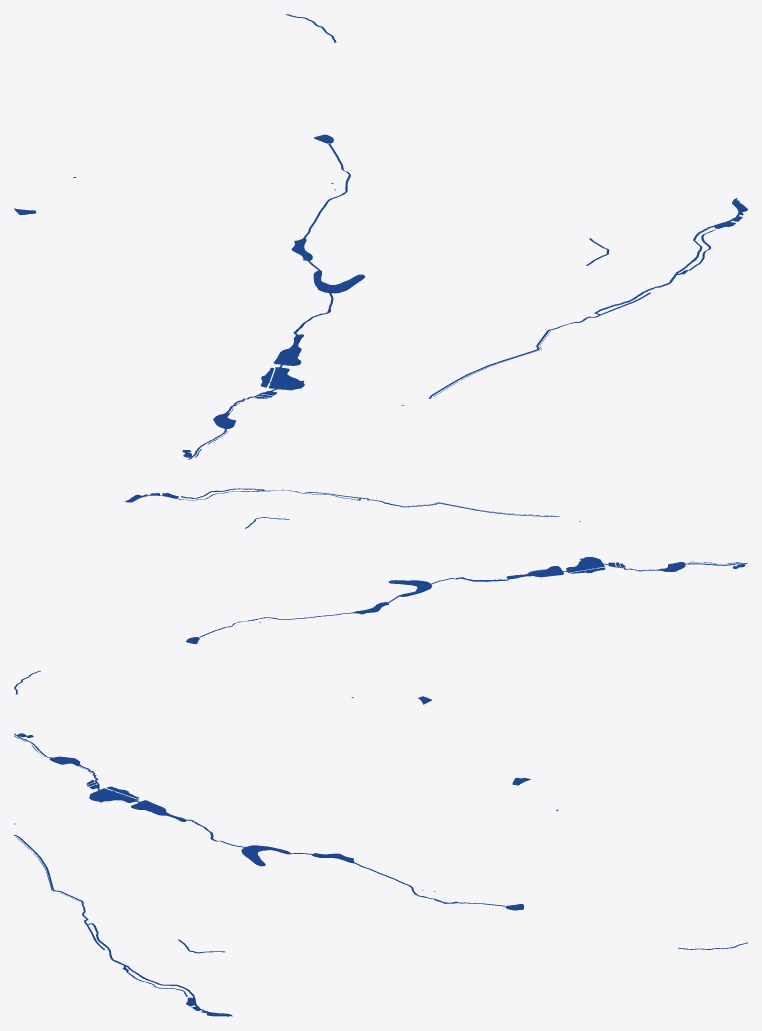
Rendered from water.glb.
The picture shows the model from 3 angles, top to bottom: view 1: azimuth 30°, elevation 25°; view 2: azimuth 150°, elevation 25°; view 3: azimuth 270°, elevation 25°; orthographic projection. The views are drawn at different scales.
Visible parts, largest first — view 1: 260612_01_Water; view 2: 260612_01_Water; view 3: 260612_01_Water.
Part boxes in pixels (x1,y1,x2,y2): 260612_01_Water: (14, 14, 747, 459); 260612_01_Water: (14, 488, 747, 704); 260612_01_Water: (14, 733, 747, 1016).
Bounding box in the file's own units: 2789 × 53.81 × 3000.
